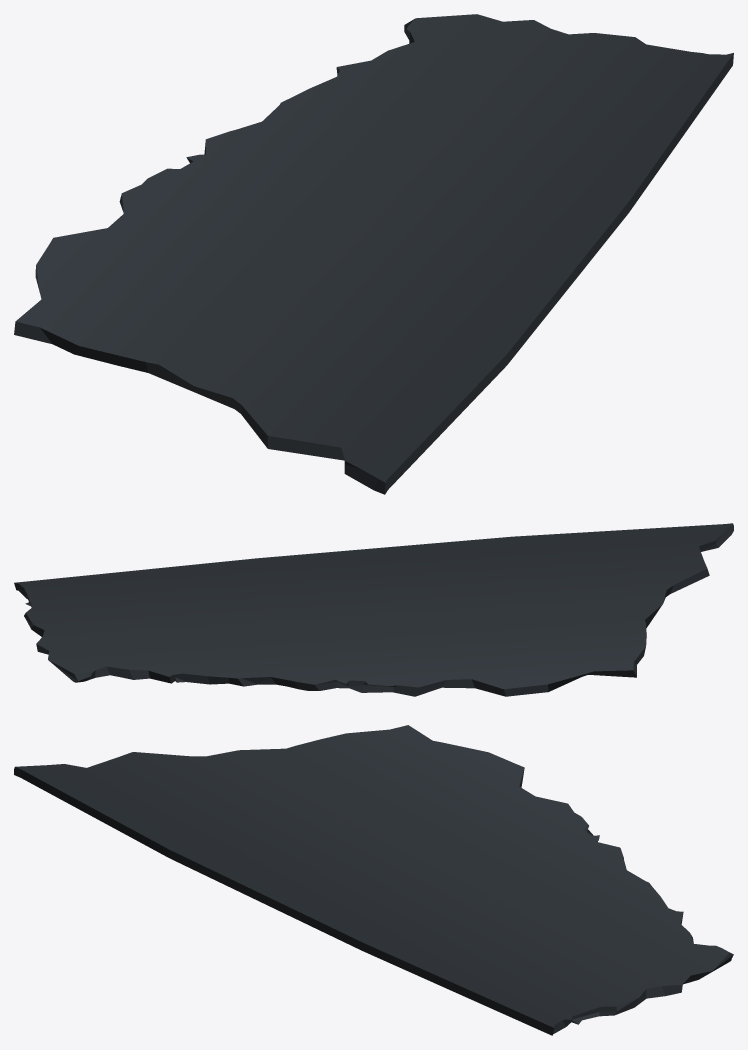
File: Road Model Chunk5.fbx
3 views of the same model, one above another, from view 1: azimuth 30°, elevation 25°; view 2: azimuth 150°, elevation 25°; view 3: azimuth 270°, elevation 25° (orthographic). The views are drawn at different scales.
Parts seen in each view (by area): view 1: Road Chunk 5; view 2: Road Chunk 5; view 3: Road Chunk 5.
Part boxes in pixels (x1=…): Road Chunk 5: x1=14, y1=14, x2=733, y2=494; Road Chunk 5: x1=14, y1=523, x2=733, y2=696; Road Chunk 5: x1=14, y1=725, x2=733, y2=1035.
Size of the model in its own units: 7583 by 102 by 7581.
